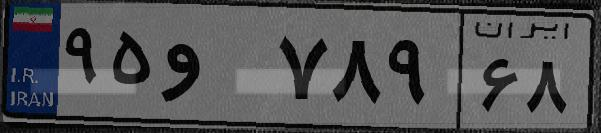5: (110, 28, 158, 98)
6: (475, 38, 525, 113)
7: (270, 28, 330, 110)
8: (330, 28, 385, 110), (525, 38, 570, 115)
9: (385, 28, 445, 110), (57, 26, 110, 100)
و: (158, 20, 270, 120)
